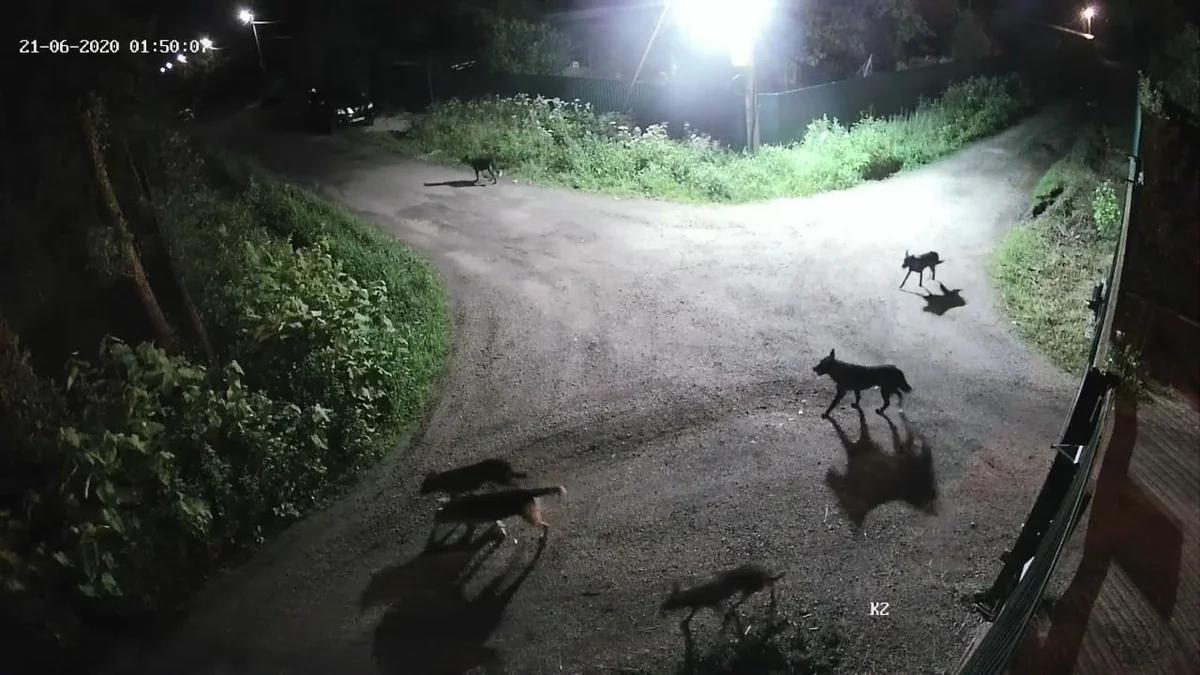dog_aggressive: (432, 484, 571, 542), (899, 247, 948, 289), (459, 152, 504, 187)
normal_dogs: (659, 561, 785, 631), (812, 349, 915, 418), (416, 457, 530, 500)
